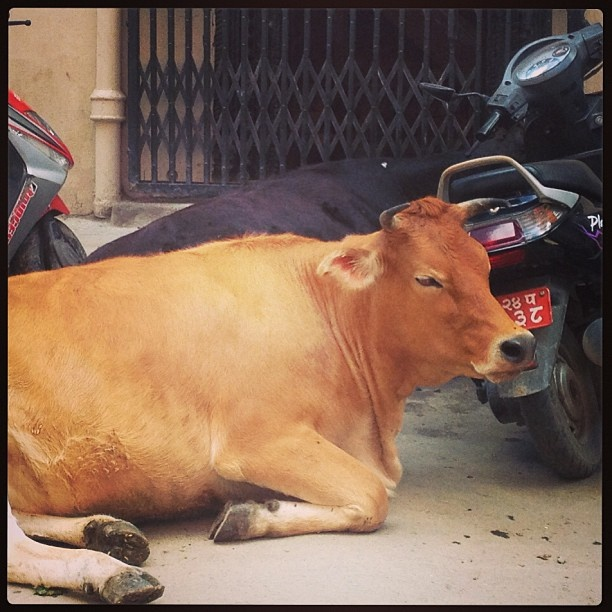non-vehicle: (408, 21, 608, 490), (9, 19, 83, 270)
